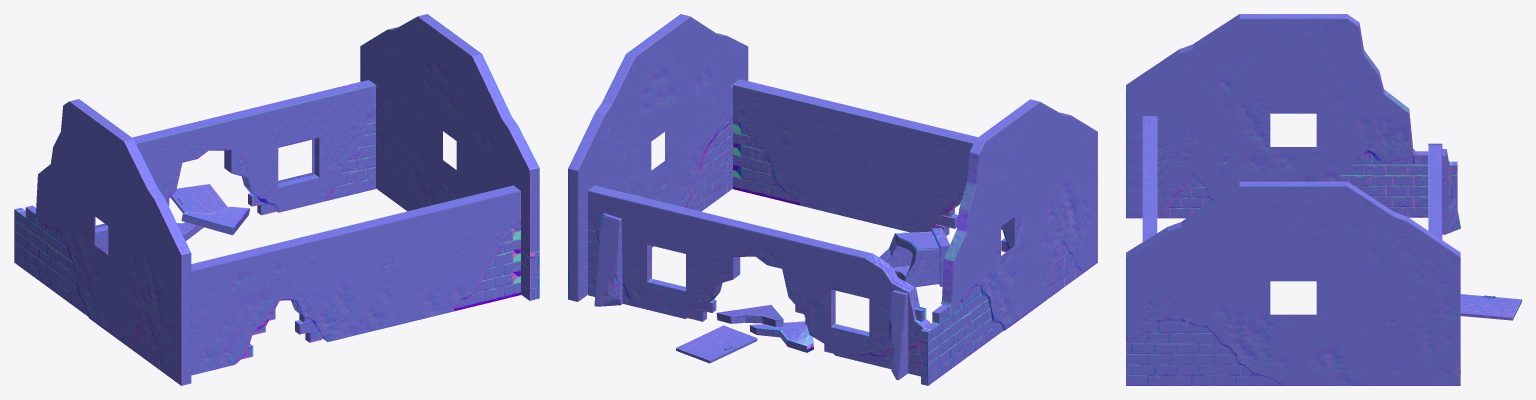
The model's file is FileneHouseABottom_Bmap.fbx.
3 renders of one model, left to right at view 1: azimuth 30°, elevation 25°; view 2: azimuth 150°, elevation 25°; view 3: azimuth 270°, elevation 25°, orthographic.
Parts seen in each view (by area): view 1: FileneHouseABottom_Bmap; view 2: FileneHouseABottom_Bmap; view 3: FileneHouseABottom_Bmap.
Part boxes in pixels (left/top/right/bottom): FileneHouseABottom_Bmap: left=14, top=14, right=539, bottom=385; FileneHouseABottom_Bmap: left=568, top=14, right=1097, bottom=385; FileneHouseABottom_Bmap: left=1126, top=14, right=1521, bottom=385.
Bounding box in the file's own units: 1097 × 593 × 1064.
Materials: 1 (1 with a texture image).
